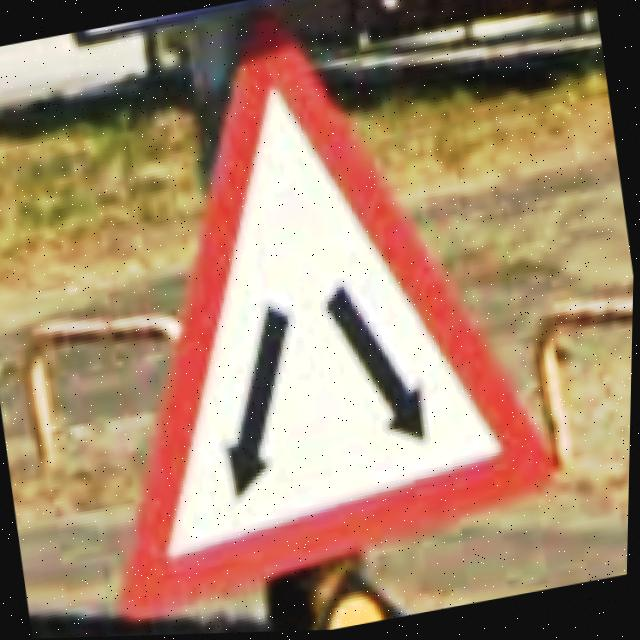diverge: (126, 15, 562, 625)
